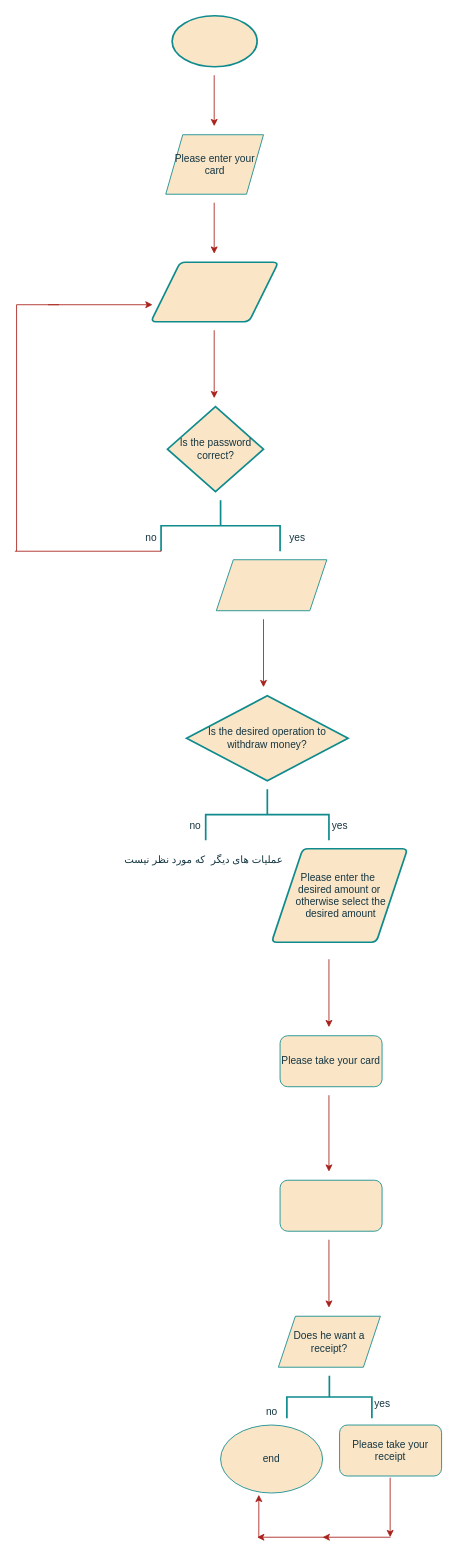
This 456x1559 diagram has some shape labels left out. The shapes that lost their labels are listed below. From the top down, each one's box as (x1, y1, x2, y2) in pixels, then its label:
(171, 14, 258, 67): start
(150, 261, 279, 322): Please enter your password
(215, 559, 327, 611): Please select the desired operation
(279, 1179, 382, 1231): Please take your money
